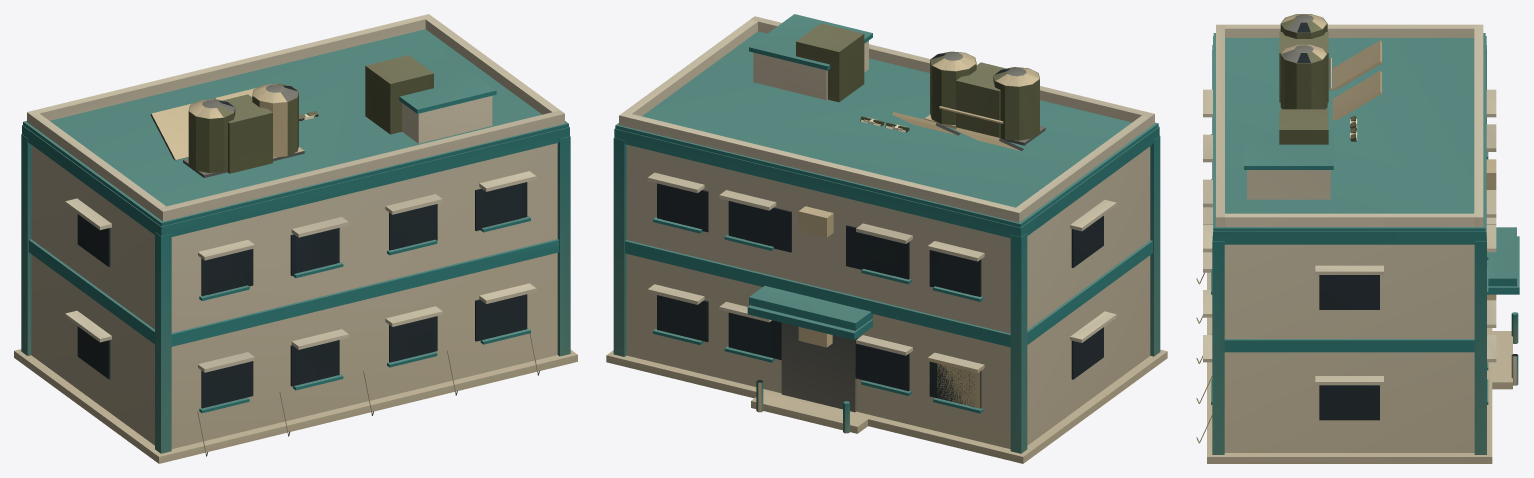
The model's file is world_kit.glb.
3 views of the same model, side by side, from view 1: azimuth 30°, elevation 25°; view 2: azimuth 150°, elevation 25°; view 3: azimuth 270°, elevation 25° (orthographic).
Parts seen in each view (by area): view 1: concrete_building, concrete_building_far; view 2: concrete_building, concrete_building_far; view 3: concrete_building, concrete_building_far.
Part boxes in pixels (bbox=[...]): concrete_building: bbox=[14, 14, 577, 463]; concrete_building_far: bbox=[23, 29, 574, 453]; concrete_building: bbox=[606, 14, 1167, 463]; concrete_building_far: bbox=[609, 23, 1164, 455]; concrete_building: bbox=[1203, 14, 1519, 463]; concrete_building_far: bbox=[1209, 32, 1516, 456].
Bounding box in the file's own units: 12.74 × 8.54 × 8.5.
